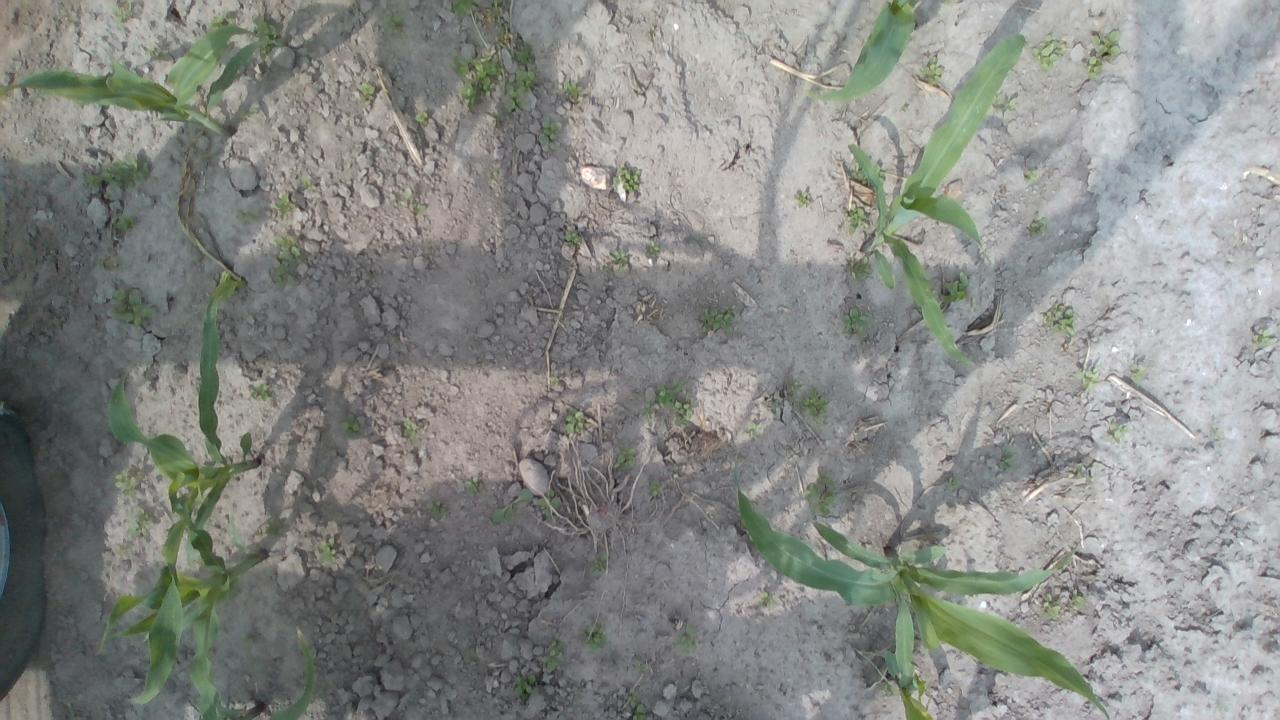Maize: (731, 468, 1112, 720), (95, 280, 262, 658), (844, 33, 1026, 368), (108, 506, 266, 720), (0, 24, 285, 137), (806, 0, 917, 103), (196, 628, 316, 720), (880, 595, 936, 720)
Weeds: (460, 57, 506, 111), (110, 287, 158, 326), (492, 489, 532, 528), (506, 68, 540, 113), (806, 471, 840, 515), (102, 158, 150, 189), (1041, 303, 1079, 337), (1032, 32, 1065, 70), (799, 384, 829, 424), (698, 306, 736, 334), (841, 305, 873, 337), (656, 377, 689, 408), (270, 234, 302, 265), (942, 271, 970, 305), (1090, 30, 1120, 61), (849, 158, 876, 192), (112, 469, 141, 500), (126, 506, 154, 538), (1072, 364, 1102, 393), (671, 624, 697, 656), (622, 689, 648, 720), (612, 164, 640, 192), (269, 264, 299, 290), (253, 14, 280, 42), (542, 639, 566, 670), (218, 270, 246, 296), (512, 672, 536, 702), (444, 52, 471, 78), (536, 489, 560, 518), (110, 0, 133, 30), (847, 256, 873, 282), (920, 57, 944, 85), (509, 42, 536, 66), (583, 622, 607, 649), (1250, 326, 1277, 350), (381, 8, 404, 36), (272, 191, 296, 217), (397, 188, 425, 210), (1040, 592, 1062, 620), (538, 119, 561, 145), (672, 399, 693, 426), (318, 538, 338, 565), (848, 208, 868, 234), (340, 412, 360, 438), (616, 447, 637, 470), (564, 411, 585, 434), (1108, 420, 1128, 444), (356, 82, 376, 106), (998, 447, 1017, 472), (607, 250, 628, 272), (486, 0, 504, 25), (246, 384, 272, 401), (1028, 216, 1048, 238), (558, 78, 582, 96), (1086, 56, 1104, 80), (1130, 364, 1150, 385), (451, 0, 474, 17), (115, 214, 138, 231), (83, 172, 102, 192), (238, 629, 256, 650), (401, 418, 418, 440), (207, 16, 229, 32), (787, 379, 802, 400), (591, 552, 608, 570), (760, 590, 776, 609), (648, 479, 664, 498), (464, 477, 480, 496), (642, 398, 657, 418), (104, 254, 120, 272), (266, 519, 282, 536), (239, 208, 256, 224), (430, 501, 448, 516), (646, 240, 660, 258), (238, 105, 260, 116), (415, 110, 429, 126), (1070, 592, 1084, 608), (796, 192, 810, 208), (1024, 168, 1038, 184), (1002, 98, 1016, 114), (566, 232, 582, 246), (1073, 463, 1086, 480), (1211, 424, 1224, 440), (486, 168, 499, 184), (144, 44, 160, 57), (875, 164, 887, 181), (882, 681, 896, 695), (492, 110, 504, 126), (749, 422, 762, 434), (112, 544, 126, 555), (302, 179, 314, 191), (260, 46, 272, 57), (951, 474, 961, 487), (639, 662, 650, 672), (942, 0, 952, 8)
